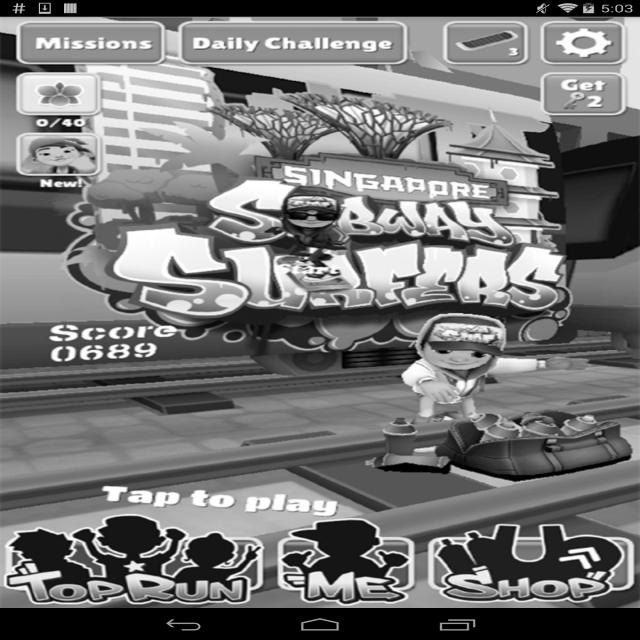Button: (177, 19, 410, 69), (8, 18, 170, 67), (540, 19, 626, 67)
ImageView: (13, 74, 630, 596), (431, 17, 531, 69)
